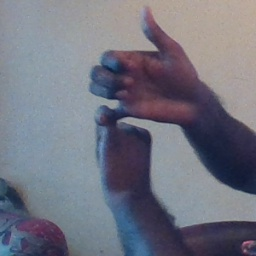S: (87, 4, 210, 174)
